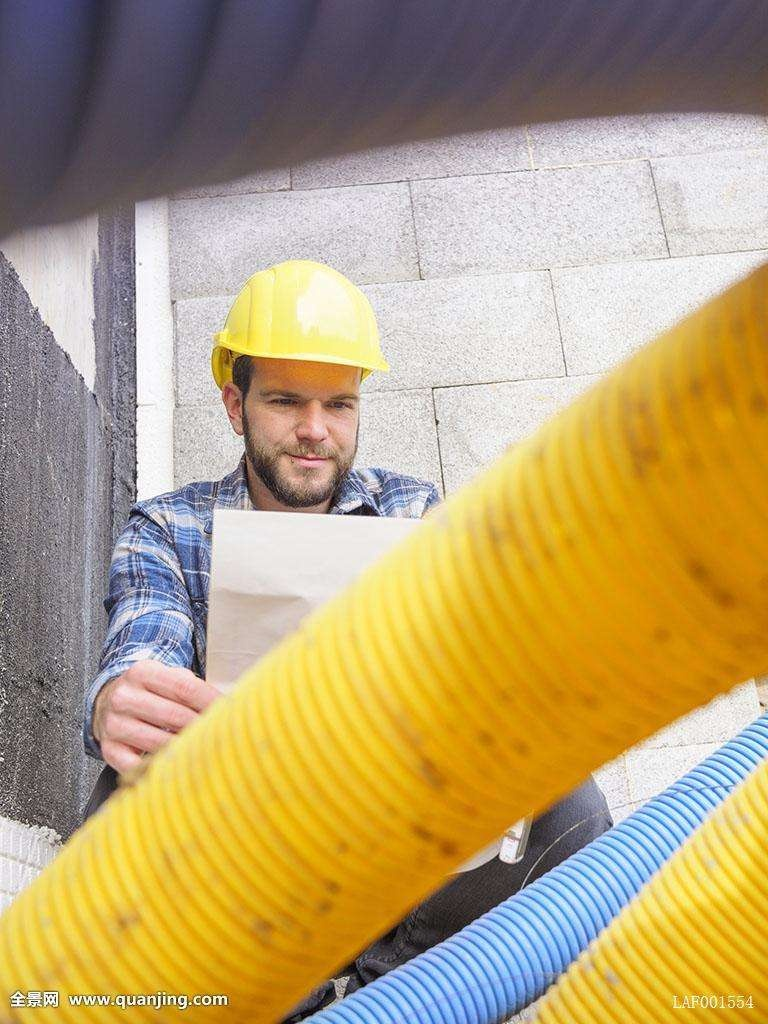yellow: (212, 264, 381, 507)
